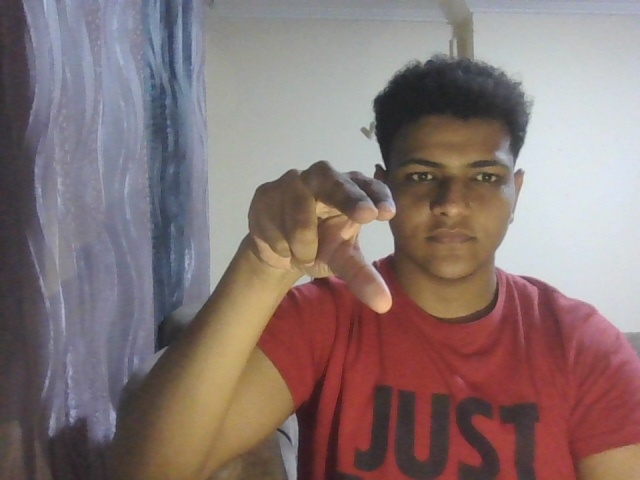no: (234, 138, 400, 357)
